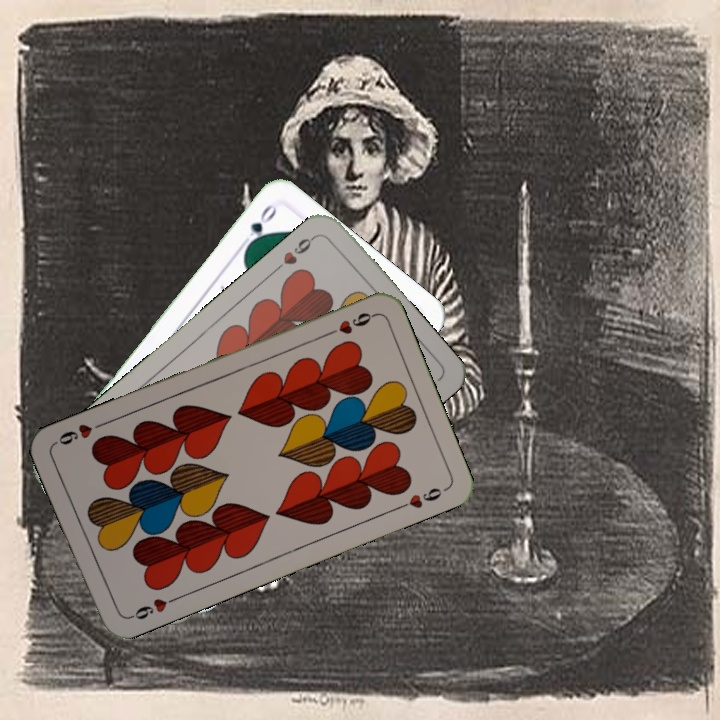GO: (236, 200, 280, 252)
H9: (271, 230, 320, 274), (322, 308, 378, 339), (123, 593, 180, 623)
